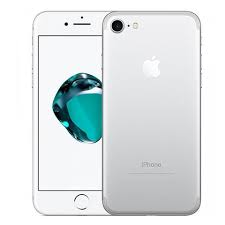iphone: (101, 3, 202, 220)
iphone7: (30, 6, 204, 218)
